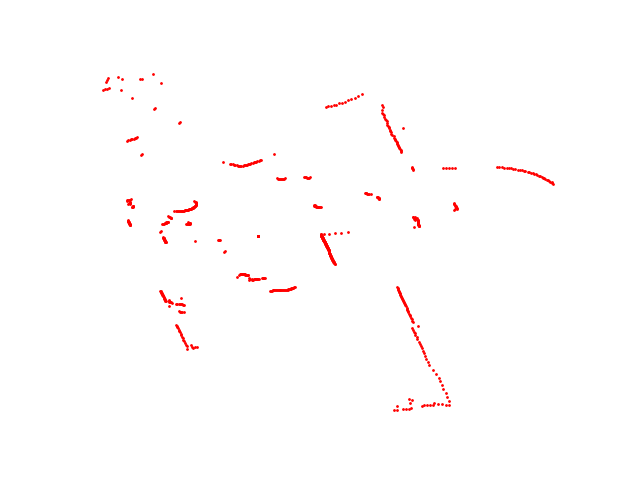person: (273, 171, 314, 185)
